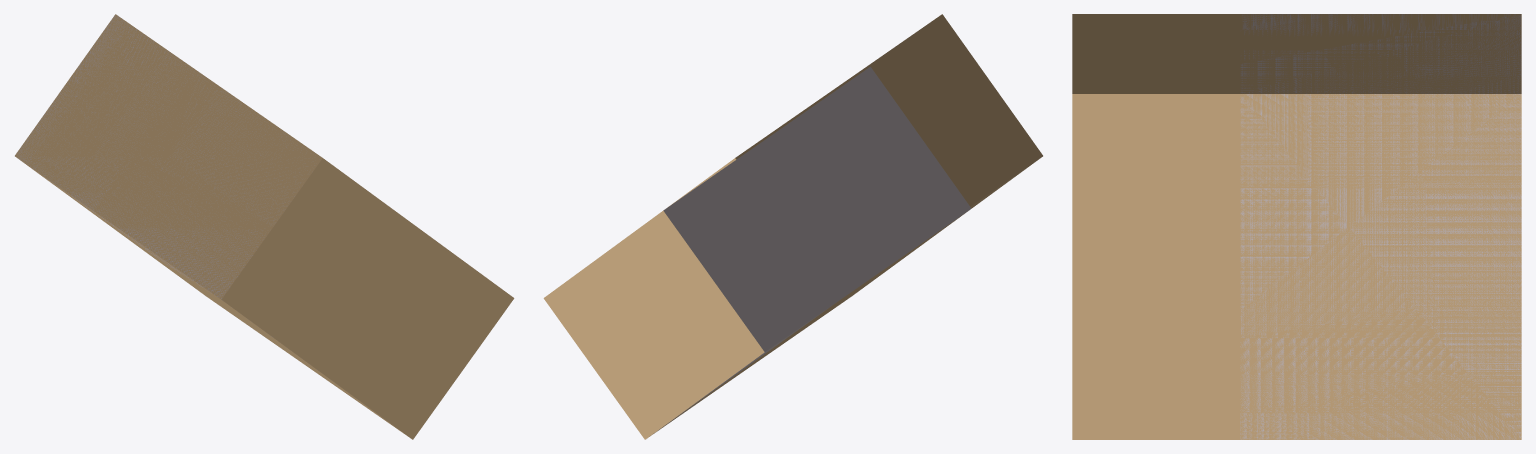
3 views of the same model, side by side, from view 1: azimuth 30°, elevation 25°; view 2: azimuth 150°, elevation 25°; view 3: azimuth 270°, elevation 25° (orthographic). The views are drawn at different scales.
Visible parts, largest first — view 1: 0_1_2_0_3_0_2_3_1_1; view 2: 0_1_2_0_3_0_2_3_1_1; view 3: 0_1_2_0_3_0_2_3_1_1.
Part boxes in pixels (x1,y1,x2,y2): 0_1_2_0_3_0_2_3_1_1: (15, 14, 514, 439); 0_1_2_0_3_0_2_3_1_1: (543, 14, 1042, 439); 0_1_2_0_3_0_2_3_1_1: (1072, 14, 1521, 439).
Bounding box in the file's own units: 22.3 × 21.52 × 24.
